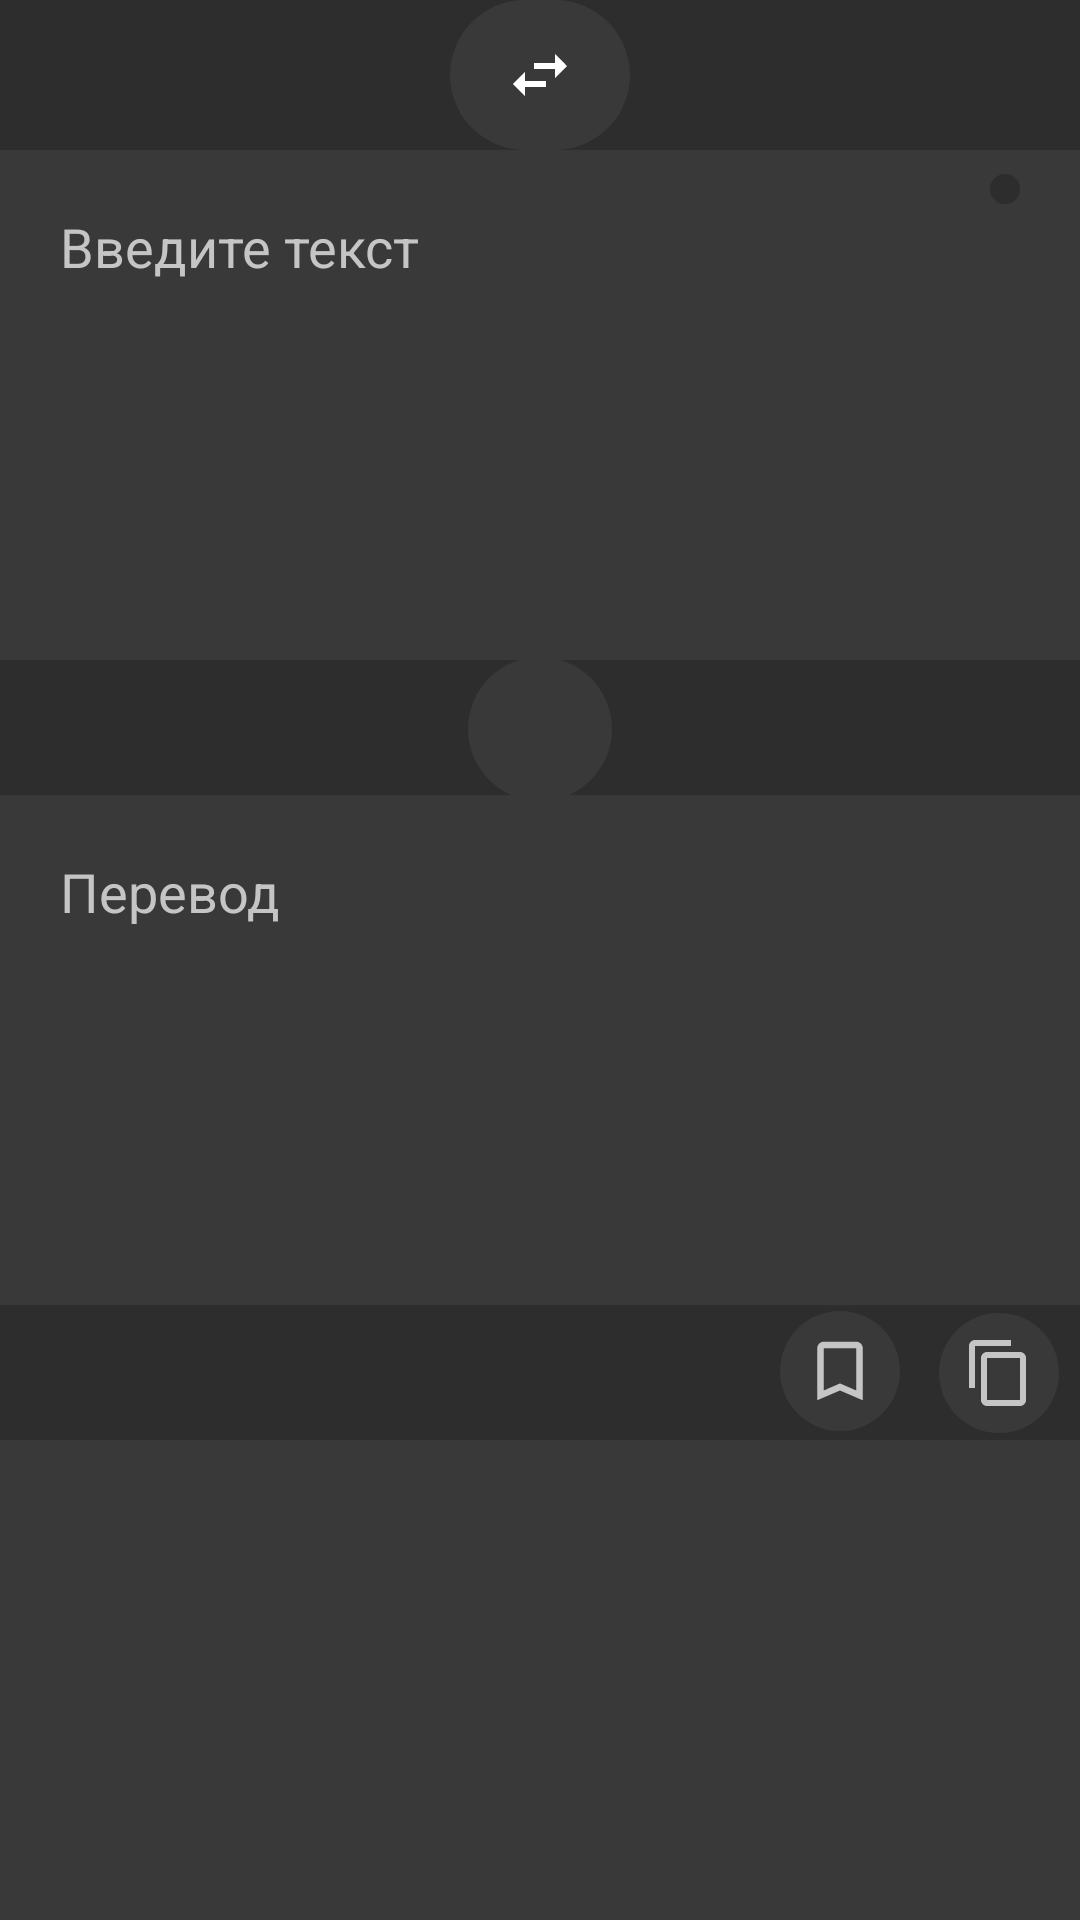

Named icons in this screenshot (1080w x 1920h) and their centers, (x=x, y=y):
bookmark border: (x=840, y=1371)
swap horiz: (x=540, y=75)
